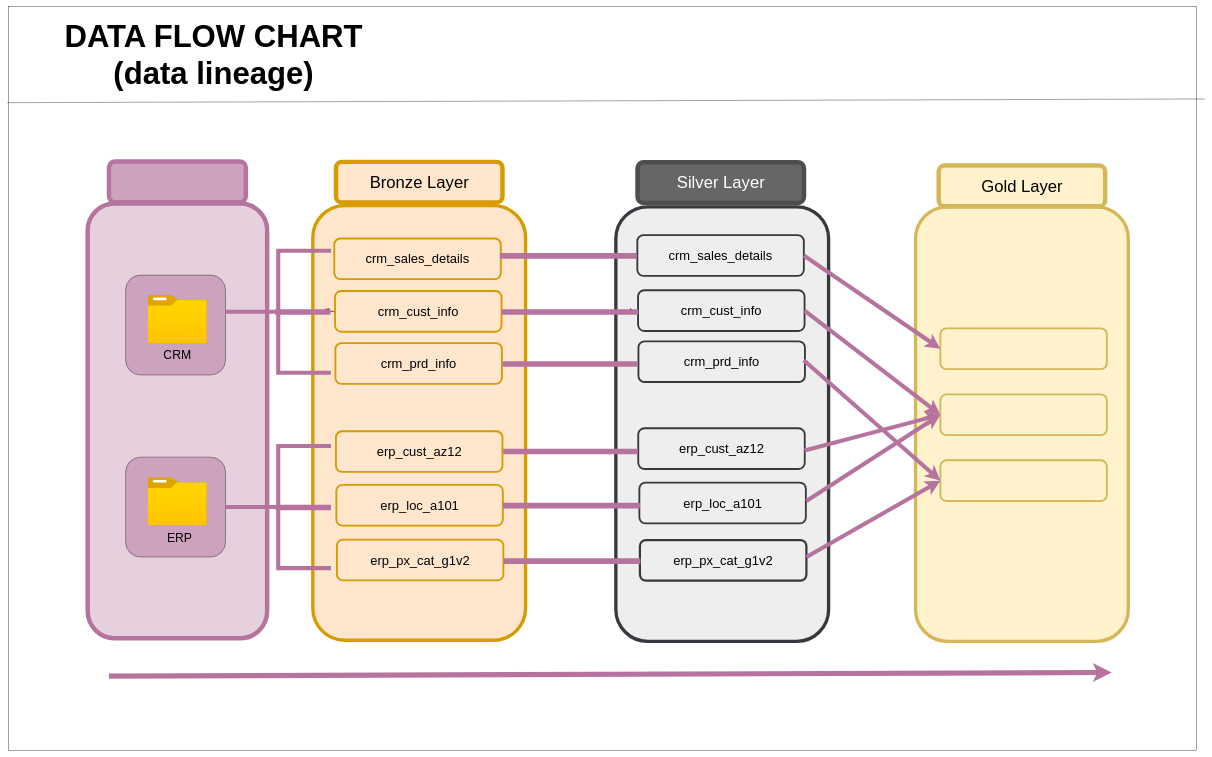
Image size: 1212x757. Some labels were removed from this diagram. The shapes that lost their labels are listed below. From the top down, each one's box as (x1, y1, x2, y2) in pixels, then its label:
(107, 159, 248, 204): Sources
(939, 327, 1108, 370): fact_sales
(939, 393, 1108, 436): dim_customers
(939, 459, 1108, 502): dim_products
